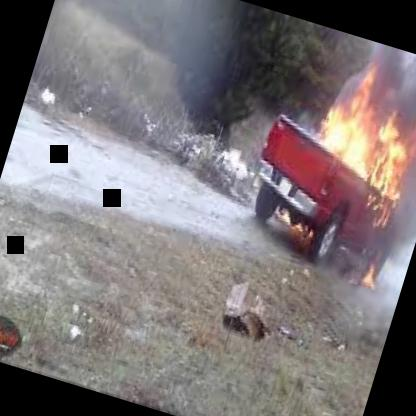fire: (272, 50, 416, 285)
